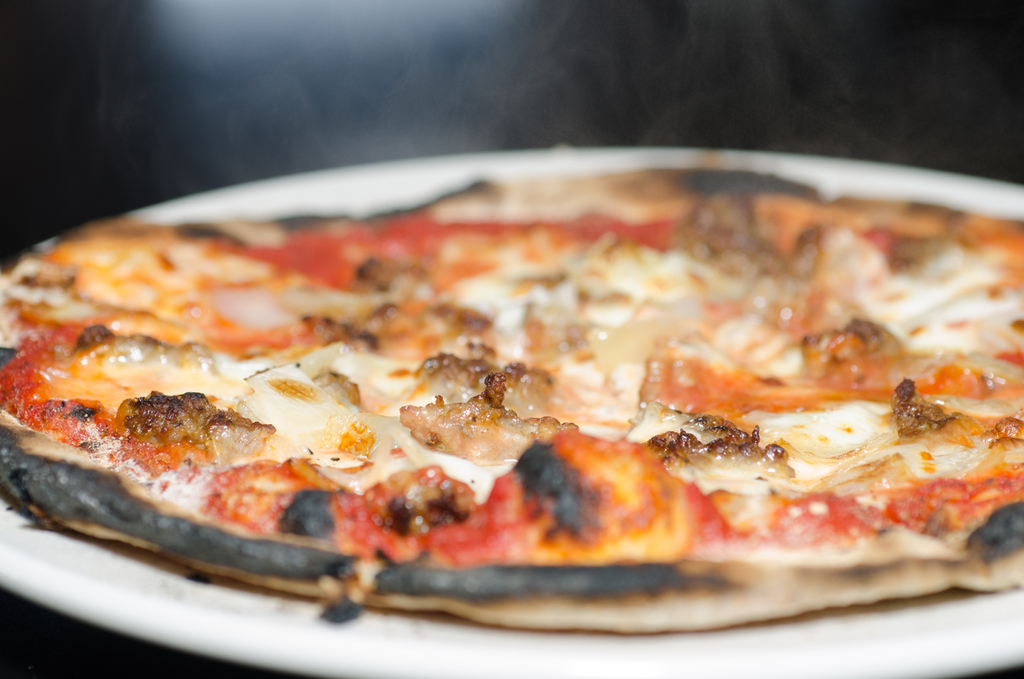Pizza: (8, 148, 1023, 661)
